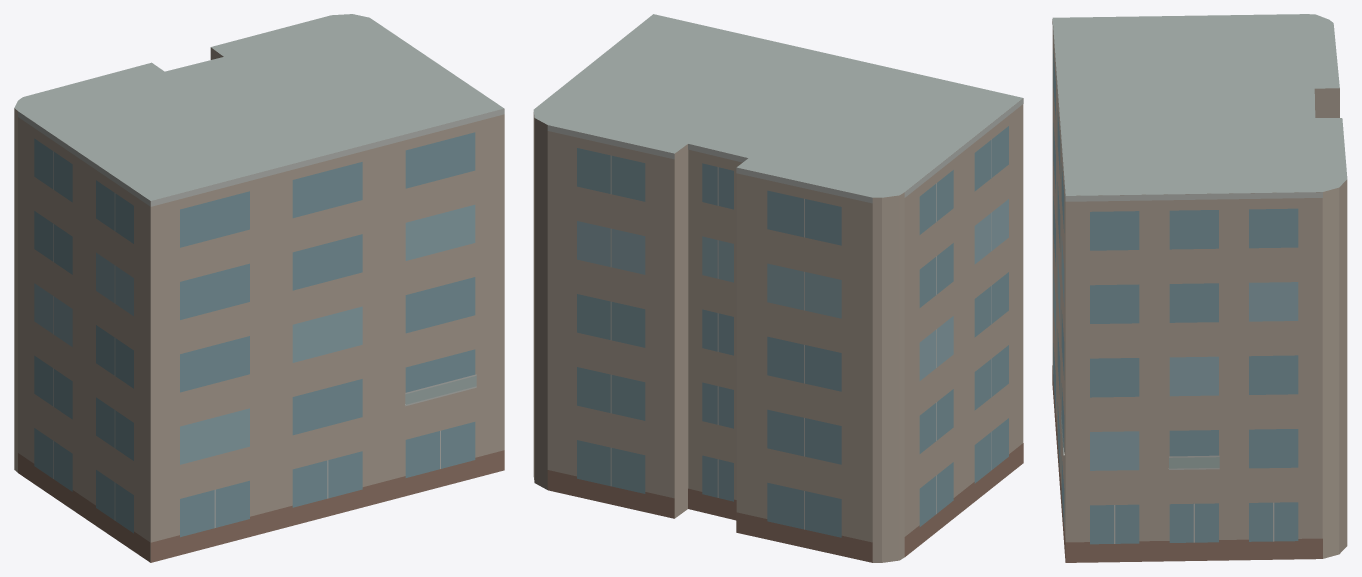
File: survey-upis-32549257.glb
3 views of the same model, side by side, from view 1: azimuth 30°, elevation 25°; view 2: azimuth 150°, elevation 25°; view 3: azimuth 270°, elevation 25° (orthographic).
Parts seen in each view (by area): view 1: survey-upis-32549257.tmp; view 2: survey-upis-32549257.tmp; view 3: survey-upis-32549257.tmp.
Part boxes in pixels (box(x1,y1,x2,y2)): survey-upis-32549257.tmp: box(14, 14, 504, 562); survey-upis-32549257.tmp: box(533, 14, 1023, 562); survey-upis-32549257.tmp: box(1052, 14, 1347, 562).
Size of the model in its own units: 16.28 by 15.3 by 11.15.
